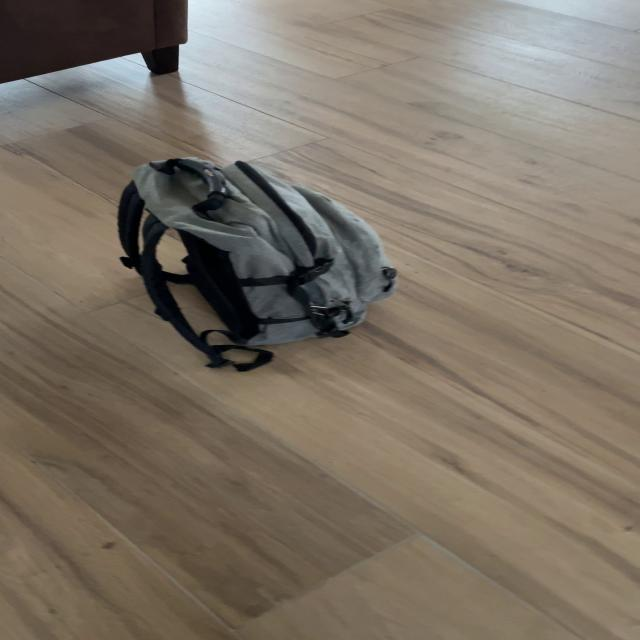backpack: (98, 142, 420, 378)
